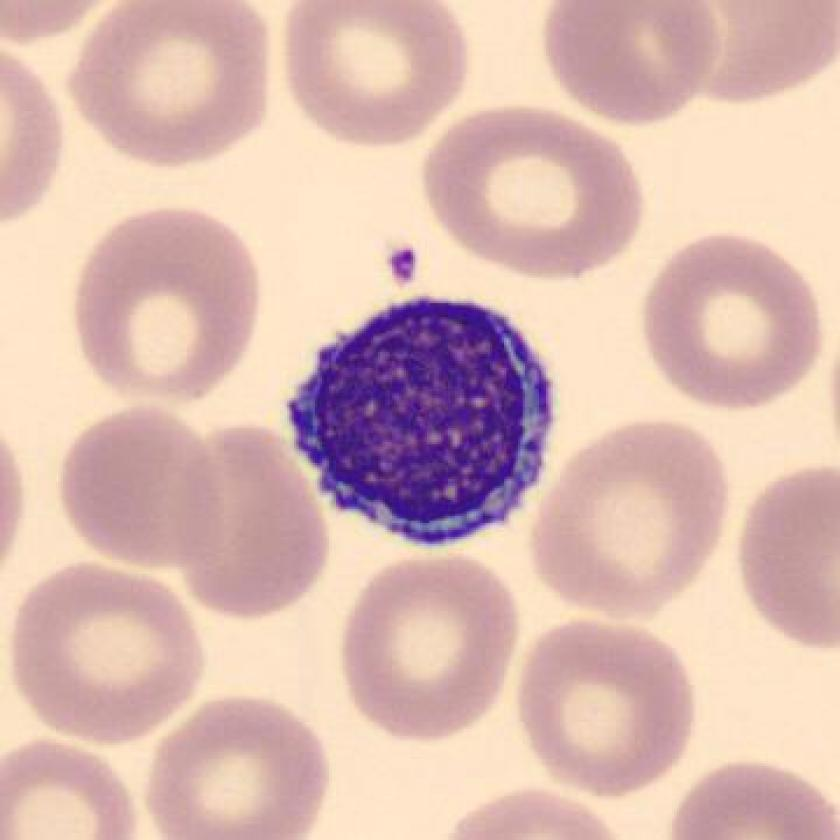lymphocyte: (274, 277, 577, 571)
